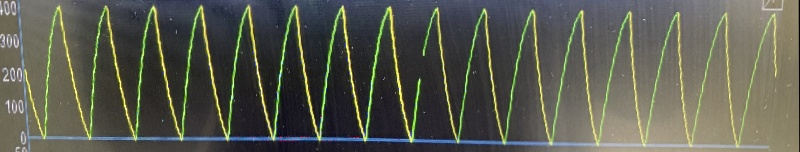normal_volume: (33, 0, 746, 149)
